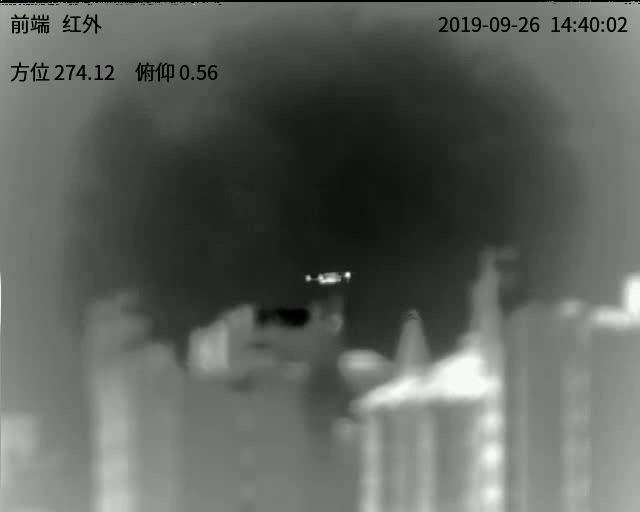DRONE: (302, 267, 354, 287)
